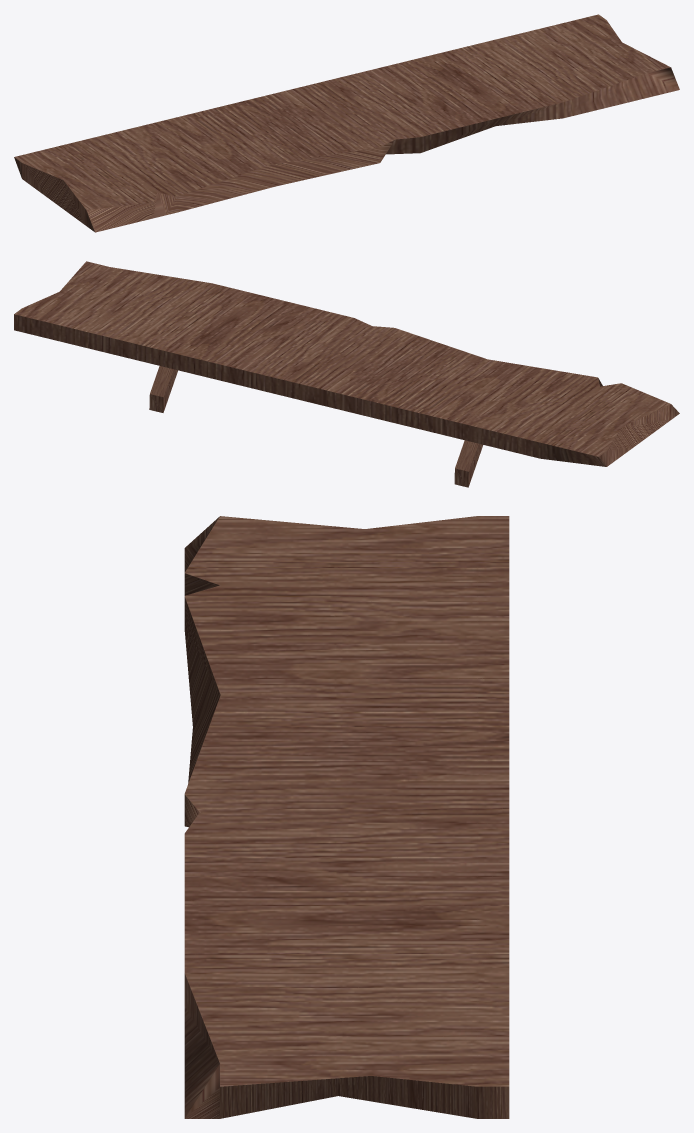
Rendered from EstanteBase.fbx.
3 views of the same model, one above another, from view 1: azimuth 30°, elevation 25°; view 2: azimuth 150°, elevation 25°; view 3: azimuth 270°, elevation 25° (orthographic). The views are drawn at different scales.
Parts seen in each view (by area): view 1: Estante_Base; view 2: Estante_Base; view 3: Estante_Base.
Boxes of the visible parts, box(x1,y1,x2,y2) form: Estante_Base: box(14, 14, 679, 232); Estante_Base: box(14, 261, 679, 487); Estante_Base: box(184, 516, 509, 1118).
Size of the model in its own units: 196 by 20.9 by 47.26.
Materials: 1 (1 with a texture image).
